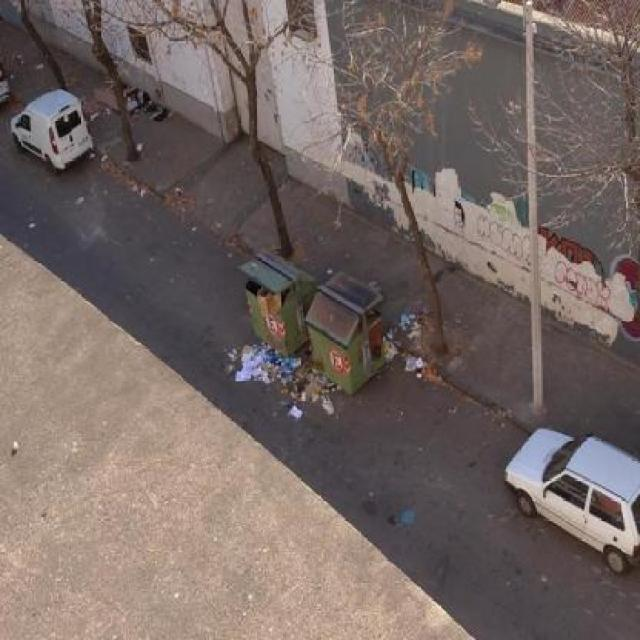garbage: (220, 331, 338, 422), (382, 306, 415, 374), (256, 280, 286, 327)
